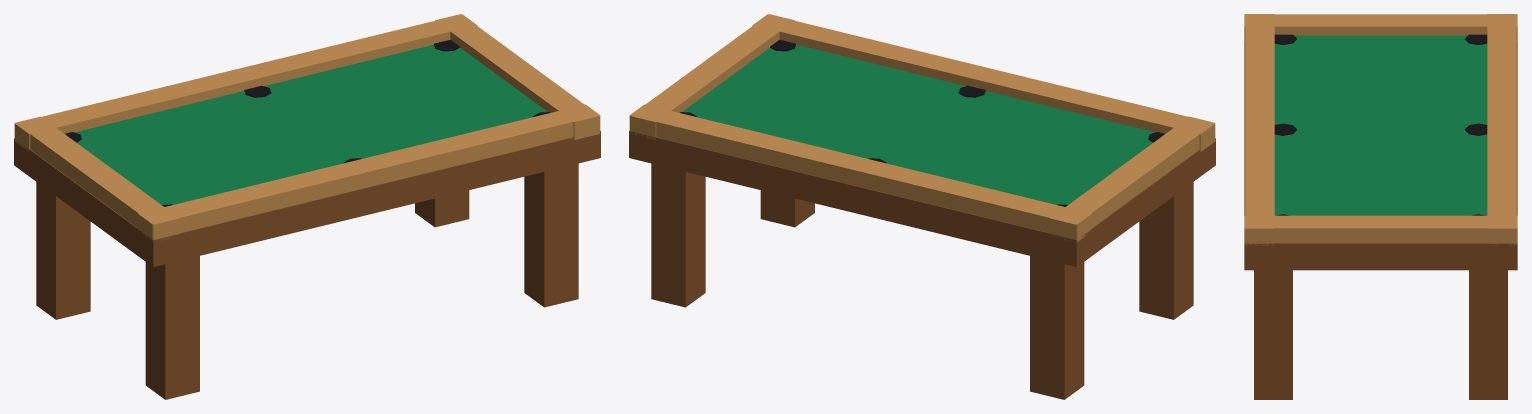
Rendered from pool_table.glb.
The picture shows the model from 3 angles, left to right: view 1: azimuth 30°, elevation 25°; view 2: azimuth 150°, elevation 25°; view 3: azimuth 270°, elevation 25°; orthographic projection.
Parts seen in each view (by area): view 1: pool_table; view 2: pool_table; view 3: pool_table.
Part boxes in pixels (box(x1,y1,x2,y2)): pool_table: box(14, 14, 600, 399); pool_table: box(629, 14, 1215, 399); pool_table: box(1244, 14, 1517, 399).
Bounding box in the file's own units: 2.6 × 1.01 × 1.4.
